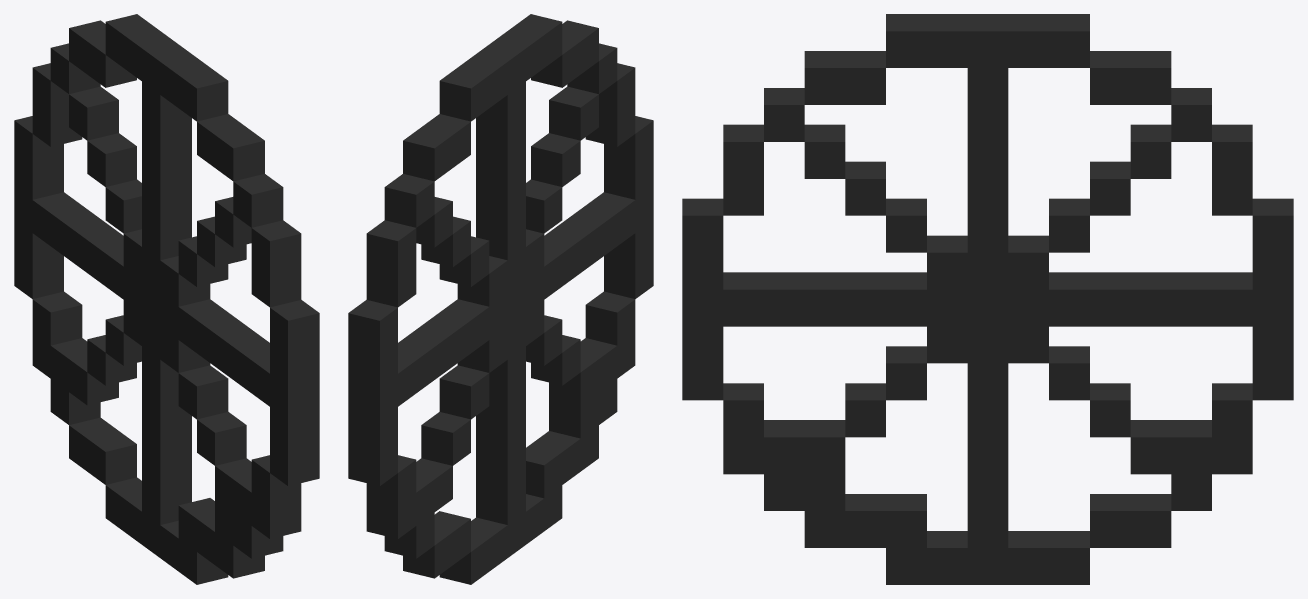
Rendered from Medieval Assets-206-Transport - Waggon Wheel.obj.
3 renders of one model, left to right at view 1: azimuth 30°, elevation 25°; view 2: azimuth 150°, elevation 25°; view 3: azimuth 270°, elevation 25°, orthographic. The views are drawn at different scales.
Parts seen in each view (by area): view 1: Transport - Waggon Wheel; view 2: Transport - Waggon Wheel; view 3: Transport - Waggon Wheel.
Boxes of the visible parts, x1=… form: Transport - Waggon Wheel: x1=14, y1=14, x2=319, y2=584; Transport - Waggon Wheel: x1=348, y1=14, x2=653, y2=584; Transport - Waggon Wheel: x1=682, y1=14, x2=1293, y2=584.
Size of the model in its own units: 0.1 by 1.5 by 1.5.
Materials: 1 (1 with a texture image).
